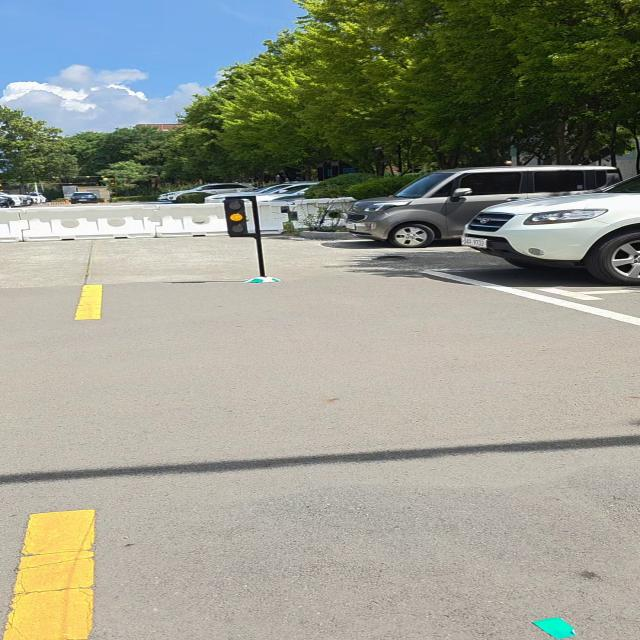yellow: (222, 199, 250, 236)
